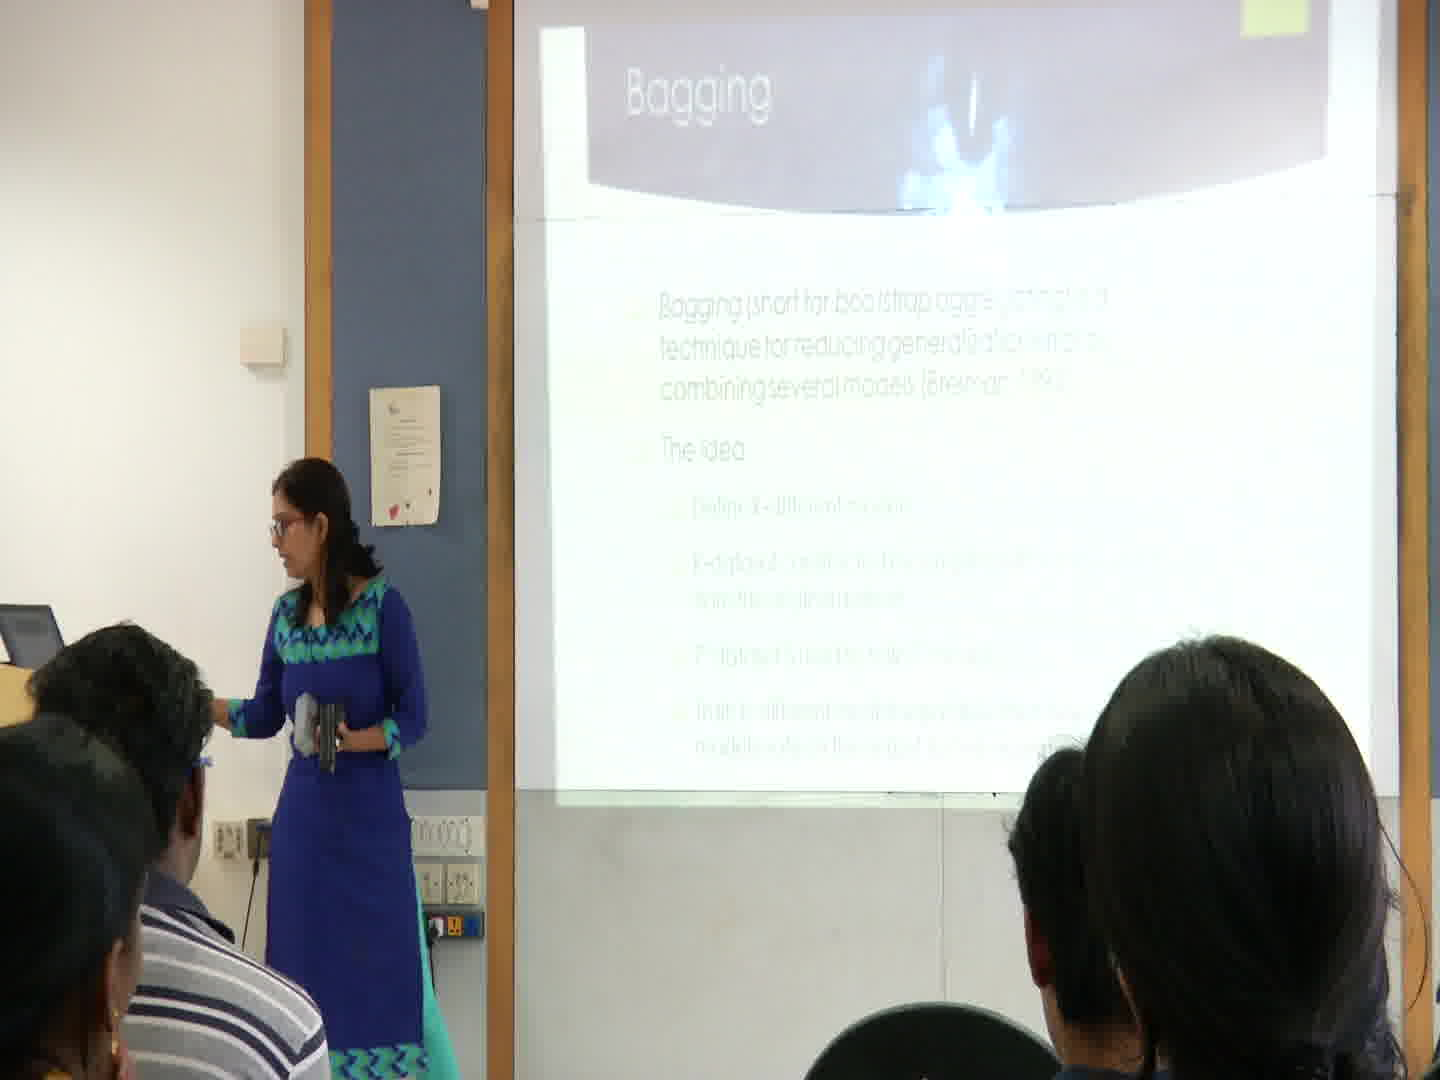slide: (539, 1, 1373, 812)
